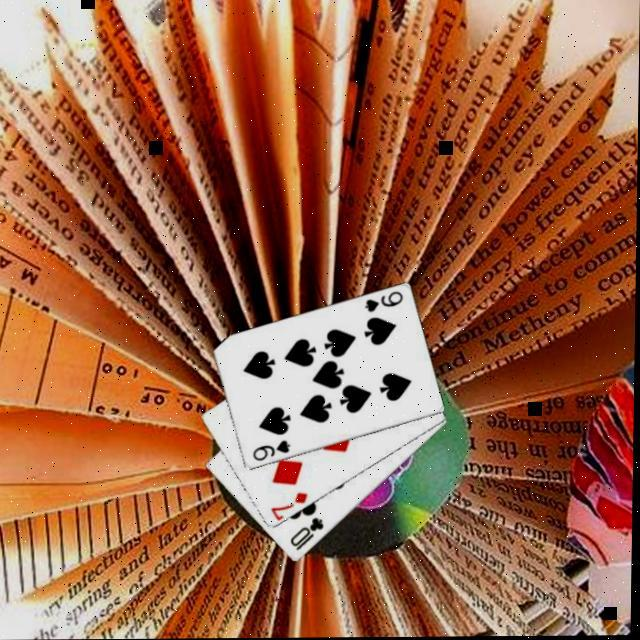10C: (290, 516, 330, 556)
7D: (271, 492, 314, 524)
9S: (253, 440, 297, 466), (365, 291, 408, 317)
